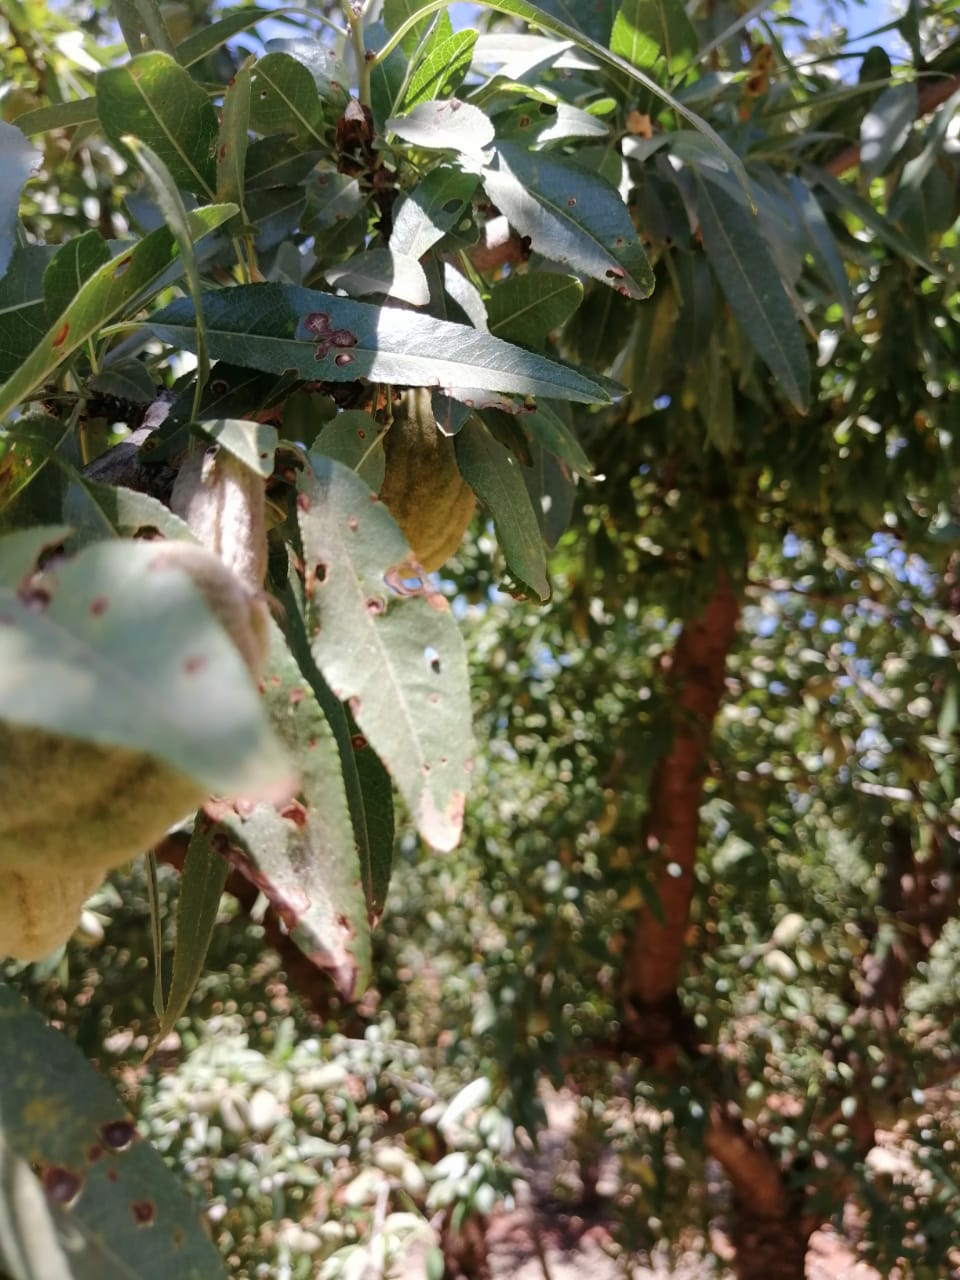coryneum: (288, 456, 472, 852), (137, 281, 614, 408), (475, 141, 659, 300)
